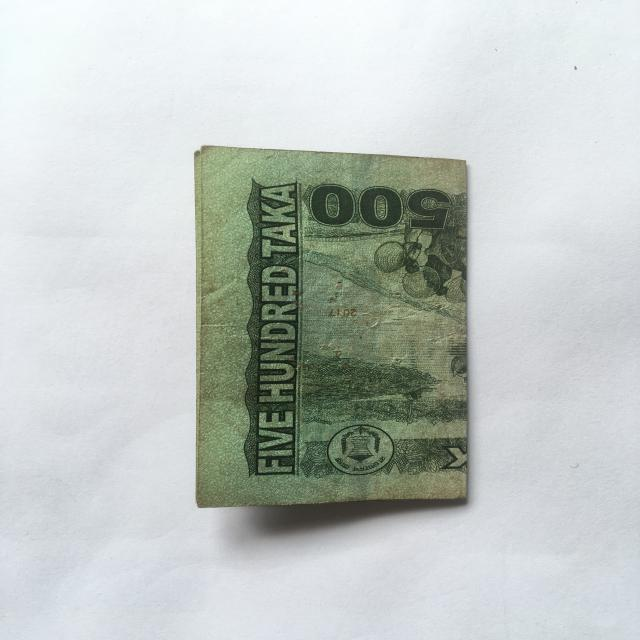Taka: (190, 137, 468, 496)
